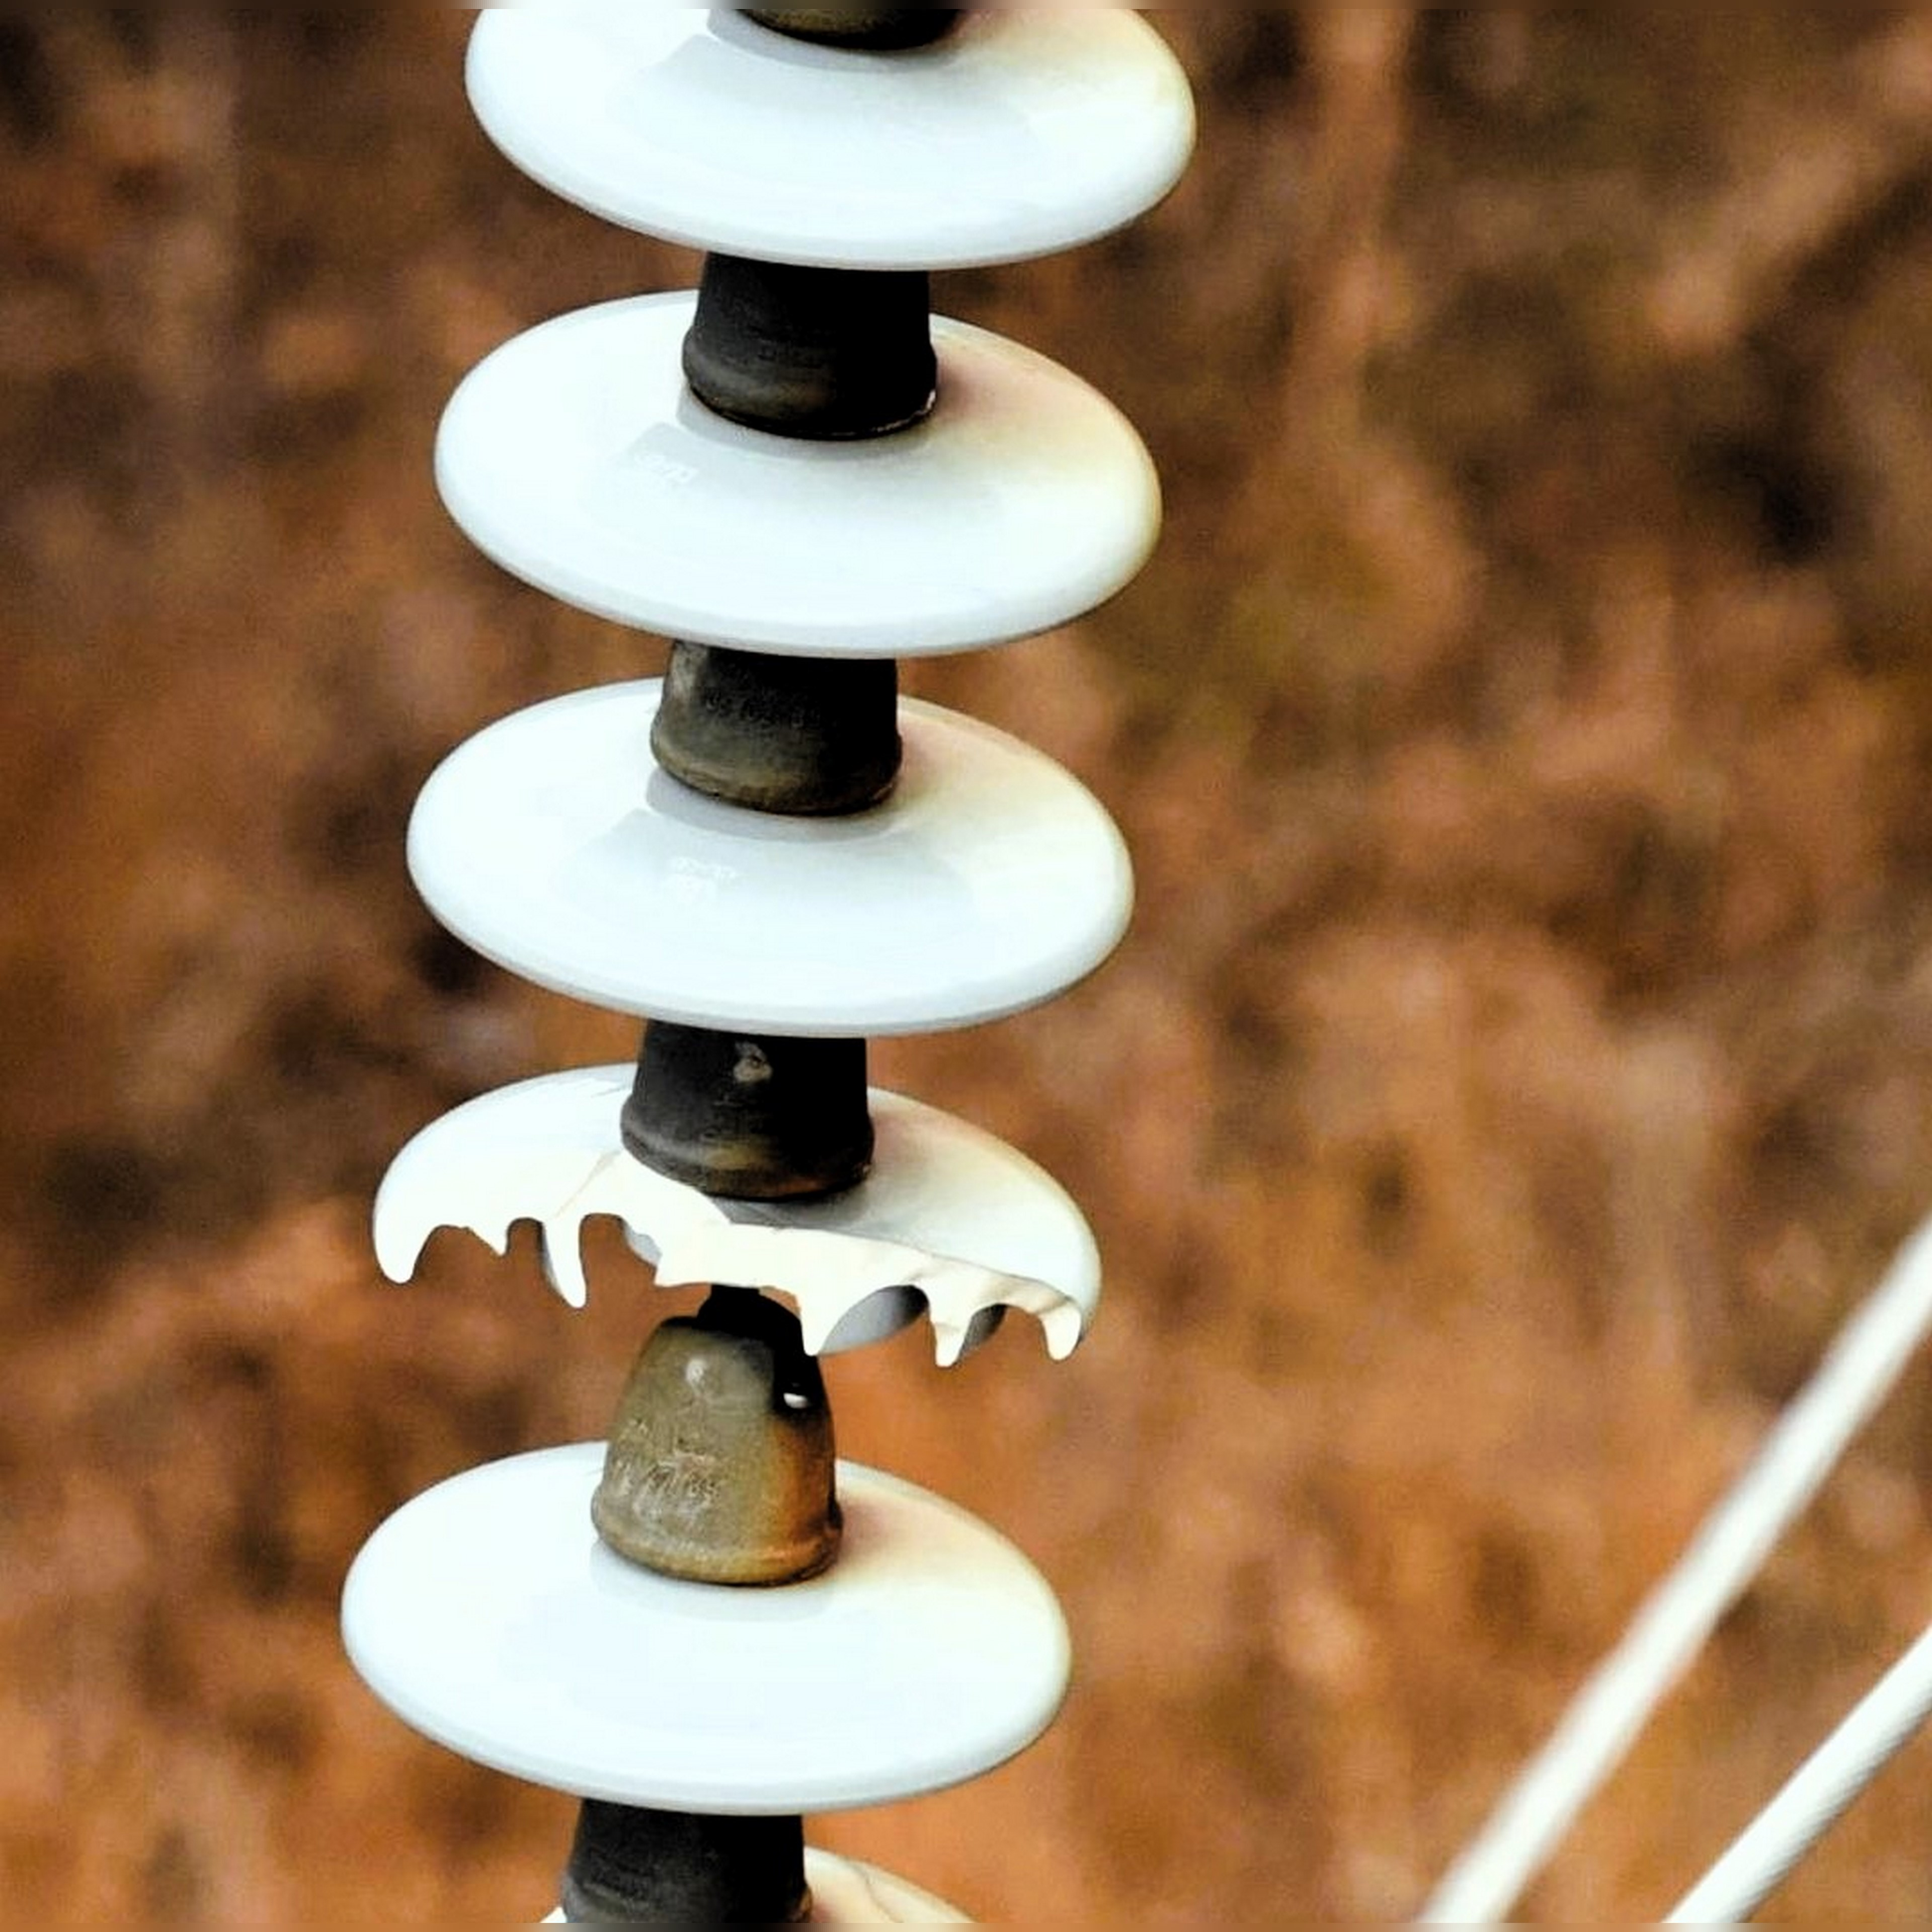insulator breakage: (334, 1047, 1122, 1384)
